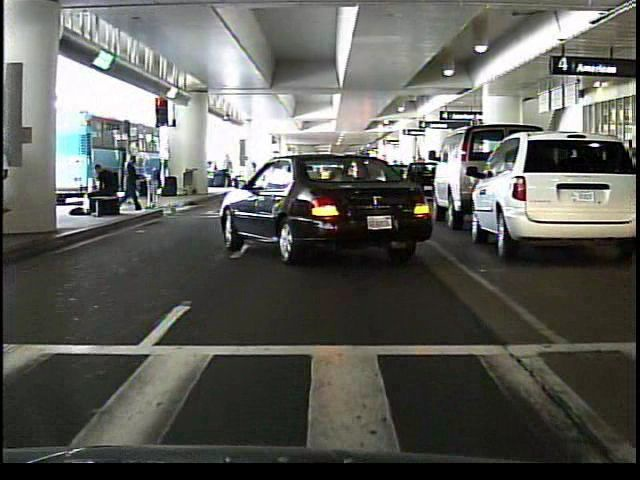person: (83, 162, 120, 222), (120, 149, 143, 211)
